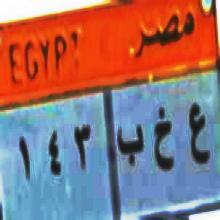1: (17, 128, 35, 190)
3: (74, 115, 96, 177)
4: (46, 126, 64, 183)
ain: (186, 94, 211, 177)
baa: (118, 115, 144, 172)
khaa: (153, 96, 174, 178)
